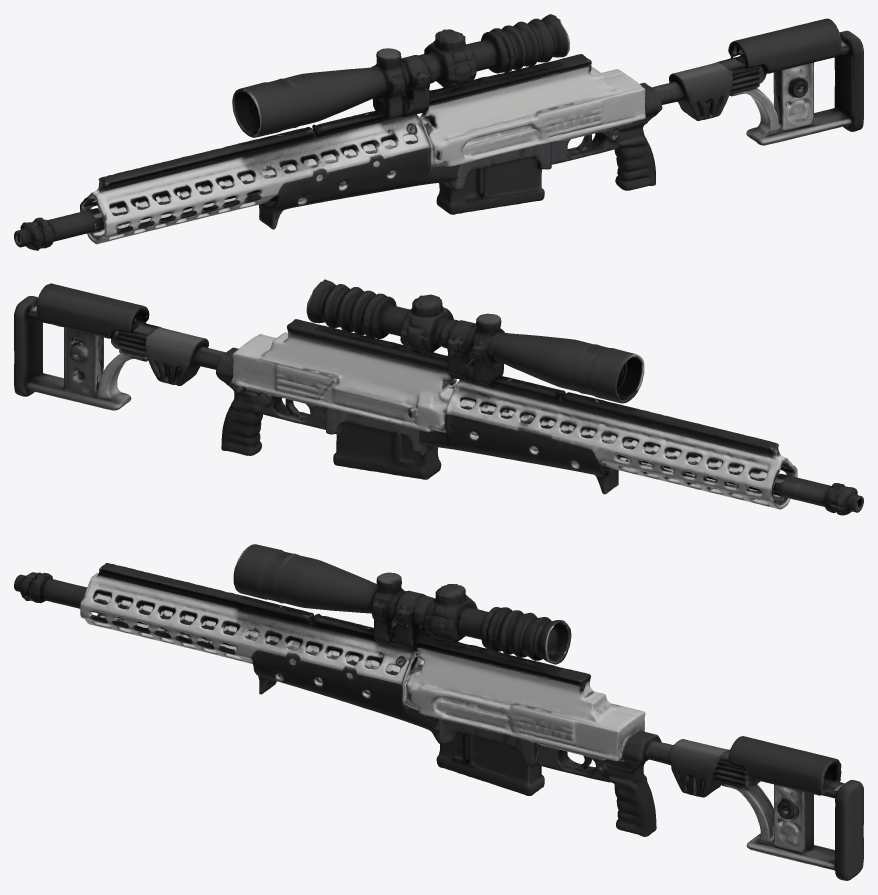
File: Meshy_AI_Super_Sniper_0805114143_texture.glb
The picture shows the model from 3 angles, top to bottom: view 1: azimuth 30°, elevation 25°; view 2: azimuth 150°, elevation 25°; view 3: azimuth 330°, elevation 25°; orthographic projection.
Size of the model in its own units: 1.9 by 0.4279 by 0.1287.
1 material, 1 textured.
